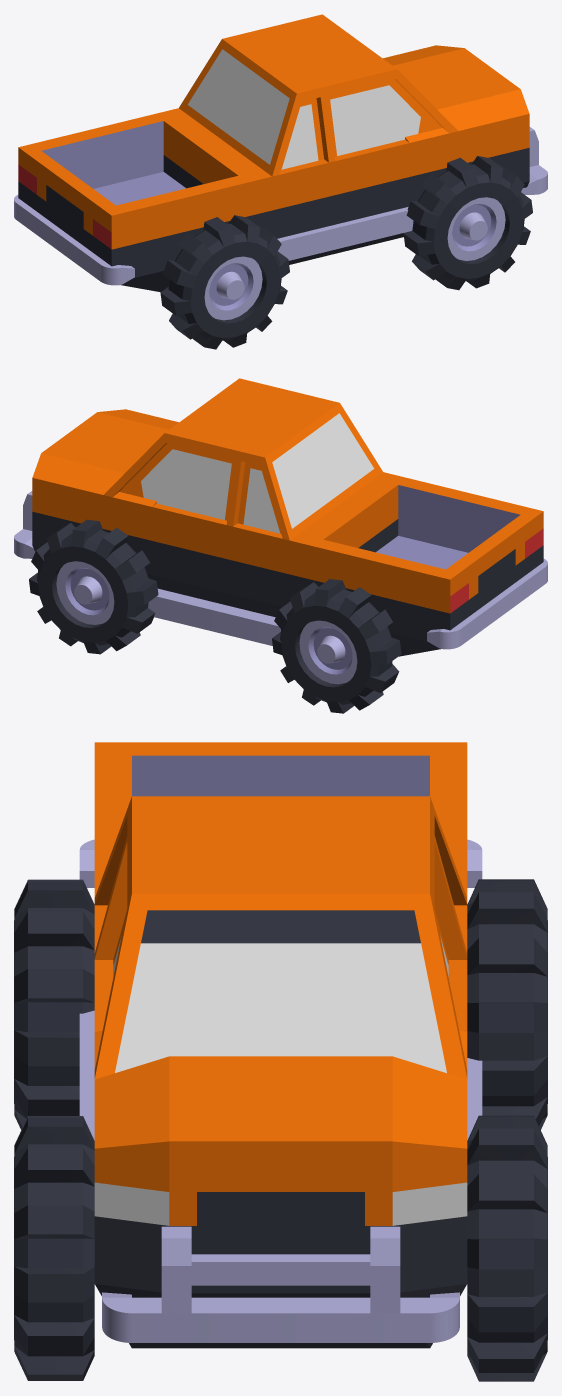
The model's file is Pickup1.fbx.
3 renders of one model, top to bottom at view 1: azimuth 30°, elevation 25°; view 2: azimuth 150°, elevation 25°; view 3: azimuth 270°, elevation 25°, orthographic. The views are drawn at different scales.
Visible parts, largest first — view 1: mergedBlocks; view 2: mergedBlocks; view 3: mergedBlocks.
Part boxes in pixels (x1=…): mergedBlocks: x1=14, y1=14, x2=547, y2=349; mergedBlocks: x1=14, y1=378, x2=547, y2=713; mergedBlocks: x1=14, y1=742, x2=547, y2=1381.
Bounding box in the file's own units: 139 × 62.88 × 71.63.
